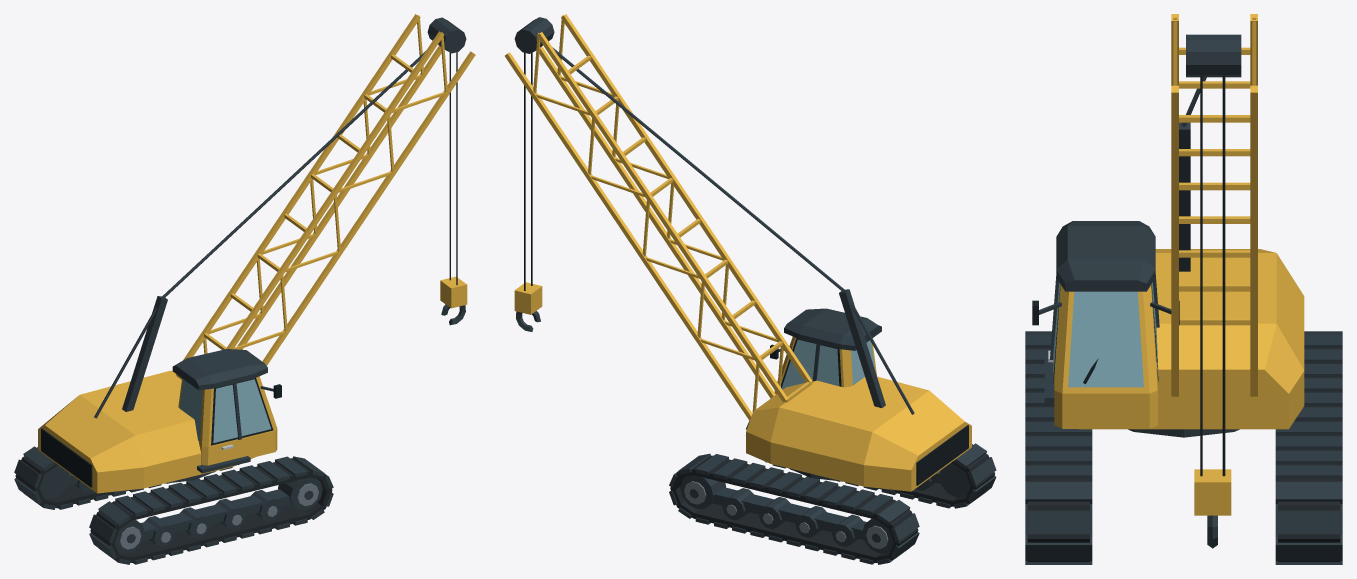
Rendered from b07_lattice_boom_crawler_crane.glb.
The picture shows the model from 3 angles, left to right: view 1: azimuth 30°, elevation 25°; view 2: azimuth 150°, elevation 25°; view 3: azimuth 270°, elevation 25°; orthographic projection. The views are drawn at different scales.
Parts seen in each view (by area): view 1: b07_lattice_boom_crawler_crane; view 2: b07_lattice_boom_crawler_crane; view 3: b07_lattice_boom_crawler_crane.
Part boxes in pixels (box(x1,y1,x2,y2)): b07_lattice_boom_crawler_crane: box(14, 14, 475, 564); b07_lattice_boom_crawler_crane: box(505, 14, 996, 564); b07_lattice_boom_crawler_crane: box(1025, 14, 1342, 564).
Bounding box in the file's own units: 7.76 × 7.44 × 3.1.
